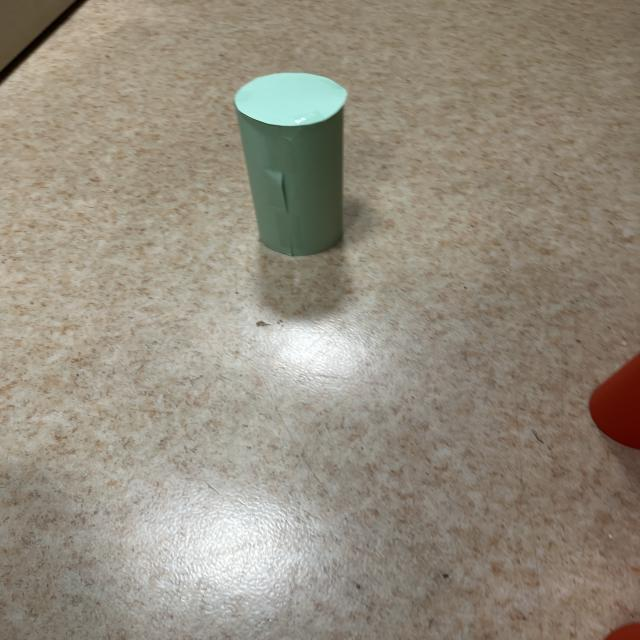meta: (234, 73, 347, 256)
